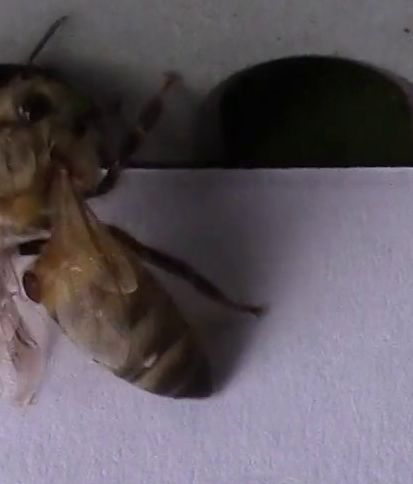Varroa destructor: (21, 265, 43, 312)
